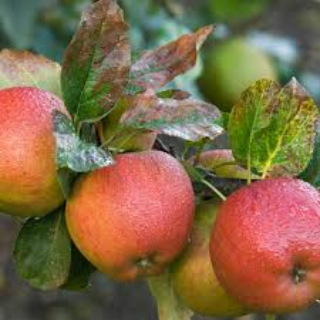tao: (63, 145, 199, 286)
